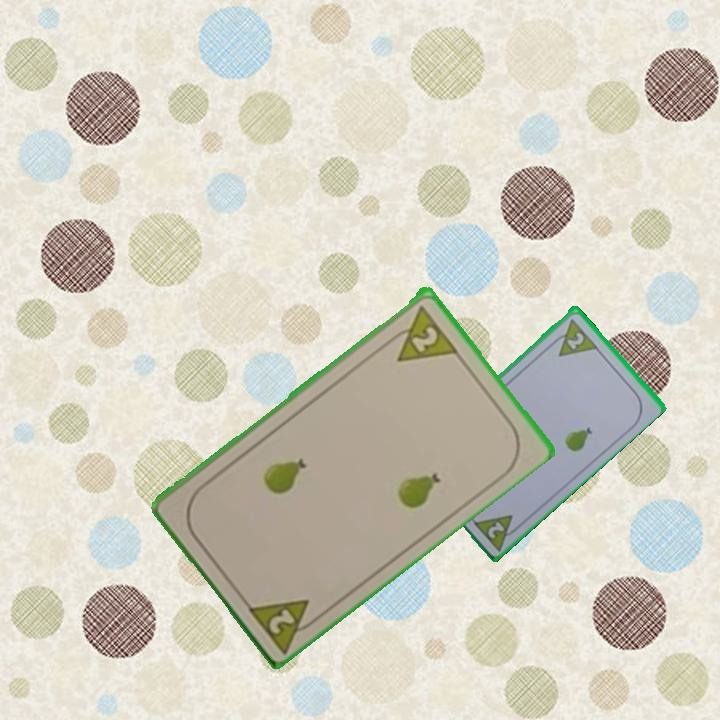2p: (381, 301, 460, 365), (242, 594, 325, 654), (469, 510, 525, 553), (563, 328, 587, 352)
